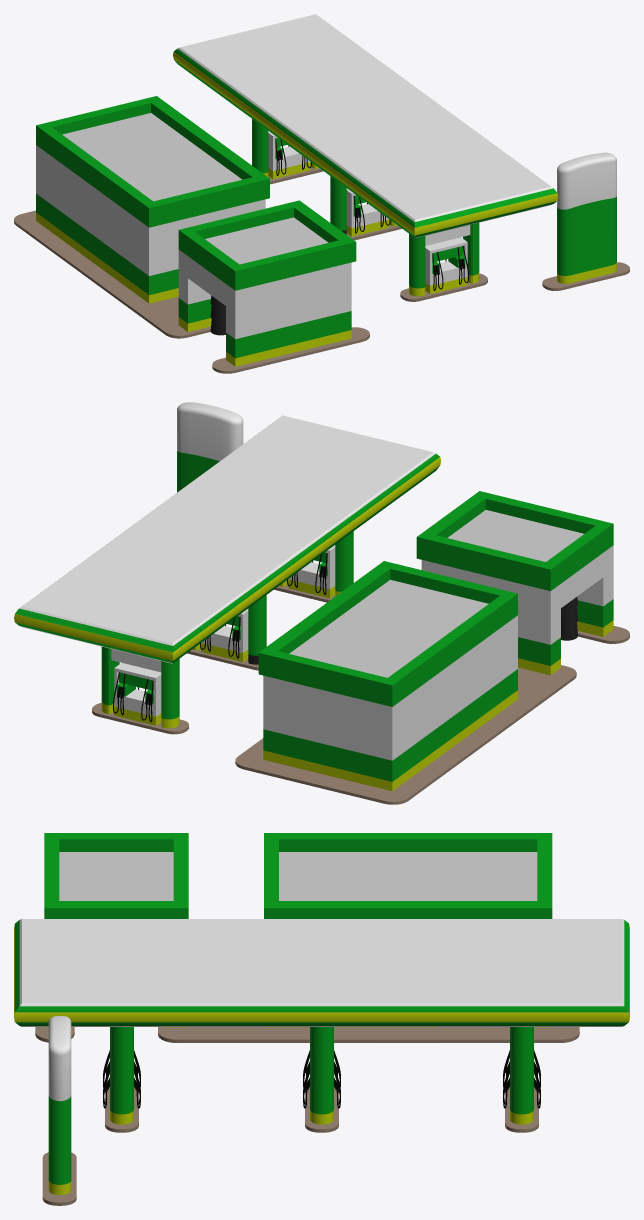
File: gas-station.glb
3 views of the same model, one above another, from view 1: azimuth 30°, elevation 25°; view 2: azimuth 150°, elevation 25°; view 3: azimuth 270°, elevation 25° (orthographic). The views are drawn at different scales.
Visible parts, largest first — view 1: PublicBuilding_GasStation; view 2: PublicBuilding_GasStation; view 3: PublicBuilding_GasStation.
Part boxes in pixels (x1,y1,x2,y2): PublicBuilding_GasStation: (14, 14, 629, 373); PublicBuilding_GasStation: (14, 402, 629, 804); PublicBuilding_GasStation: (14, 833, 629, 1205).
Size of what is drawn, in the model's own units: 12.22 by 3.36 by 12.32.
Materials: 1 (1 with a texture image).
